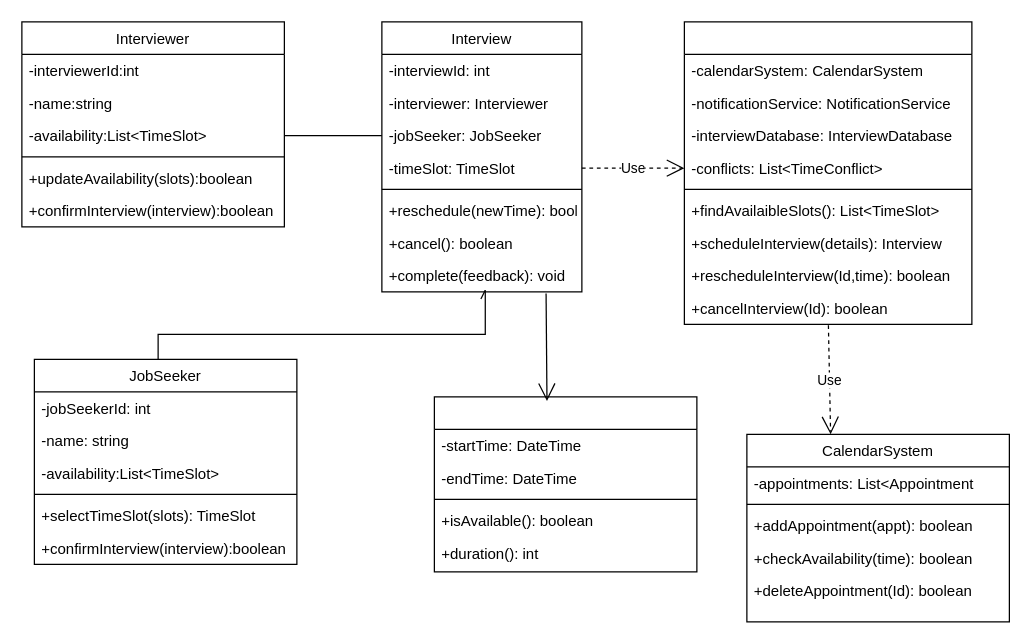
Image size: 1031x644. Some labels were removed from this diagram. The box of each missing label's shape, as (x1, y1, x2, y2) in pixels:
SchedulingService: (683, 21, 972, 324)
TimeSlot: (433, 396, 697, 572)
